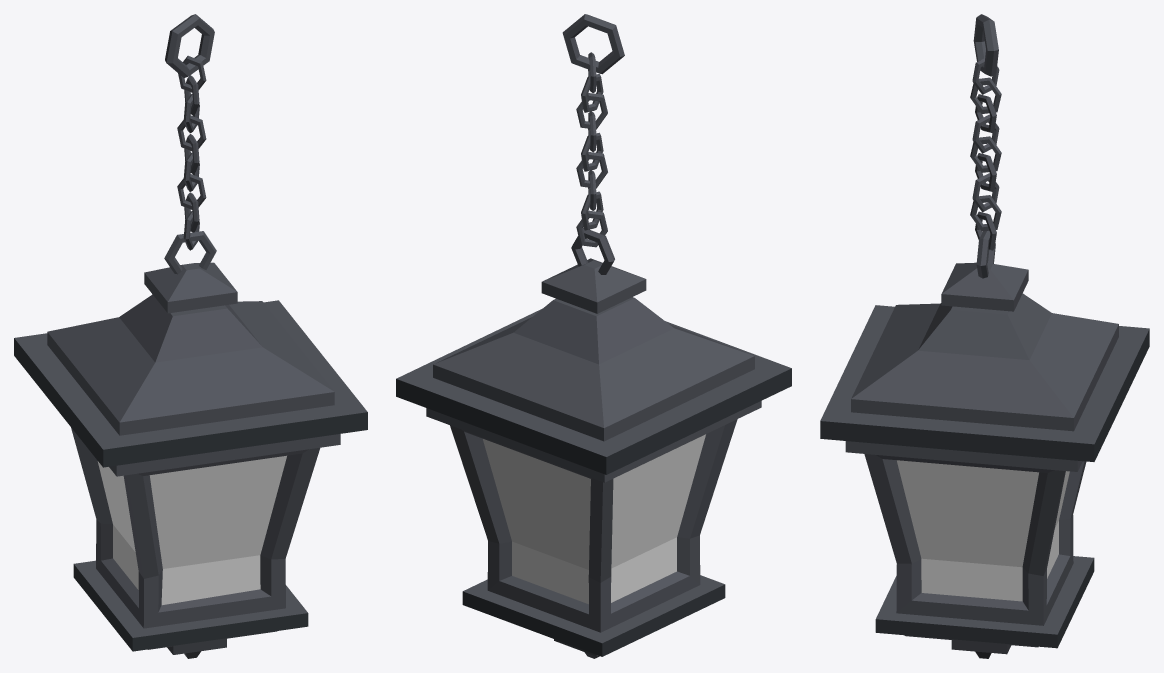
File: WF_LP_HT_Environment_StreetLamp.fbx
3 renders of one model, left to right at view 1: azimuth 30°, elevation 25°; view 2: azimuth 150°, elevation 25°; view 3: azimuth 270°, elevation 25°, orthographic.
Parts seen in each view (by area): view 1: WF_LP_HT_Environment_StreetLamp; view 2: WF_LP_HT_Environment_StreetLamp; view 3: WF_LP_HT_Environment_StreetLamp.
Boxes of the visible parts, x1=… form: WF_LP_HT_Environment_StreetLamp: x1=14, y1=14, x2=367, y2=658; WF_LP_HT_Environment_StreetLamp: x1=396, y1=14, x2=791, y2=658; WF_LP_HT_Environment_StreetLamp: x1=820, y1=14, x2=1149, y2=658.
Bounding box in the file's own units: 0.4505 × 0.966 × 0.4505.
